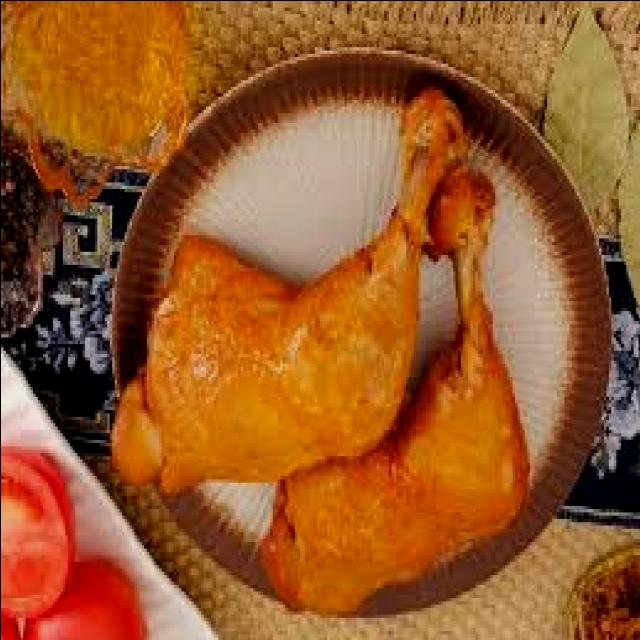ayam goreng: (111, 89, 494, 495), (255, 102, 534, 617)
